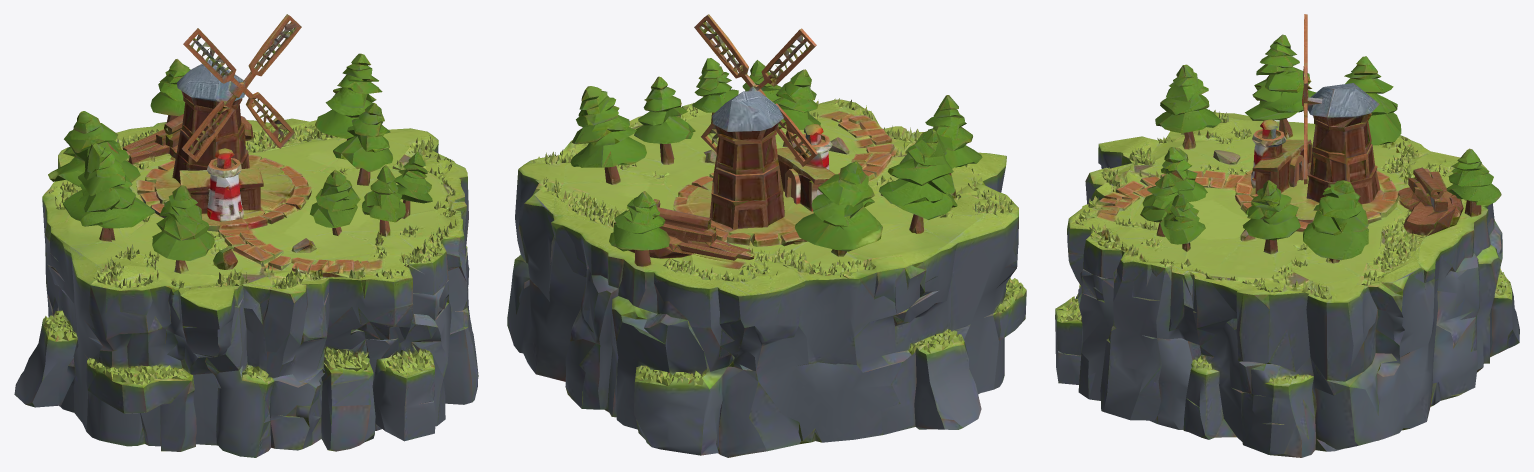
The model's file is ilha-vendaval.glb.
3 renders of one model, left to right at view 1: azimuth 30°, elevation 25°; view 2: azimuth 150°, elevation 25°; view 3: azimuth 270°, elevation 25°, orthographic. The views are drawn at different scales.
Size of the model in its own units: 1.9 by 1.46 by 1.87.
1 material, 1 textured.
